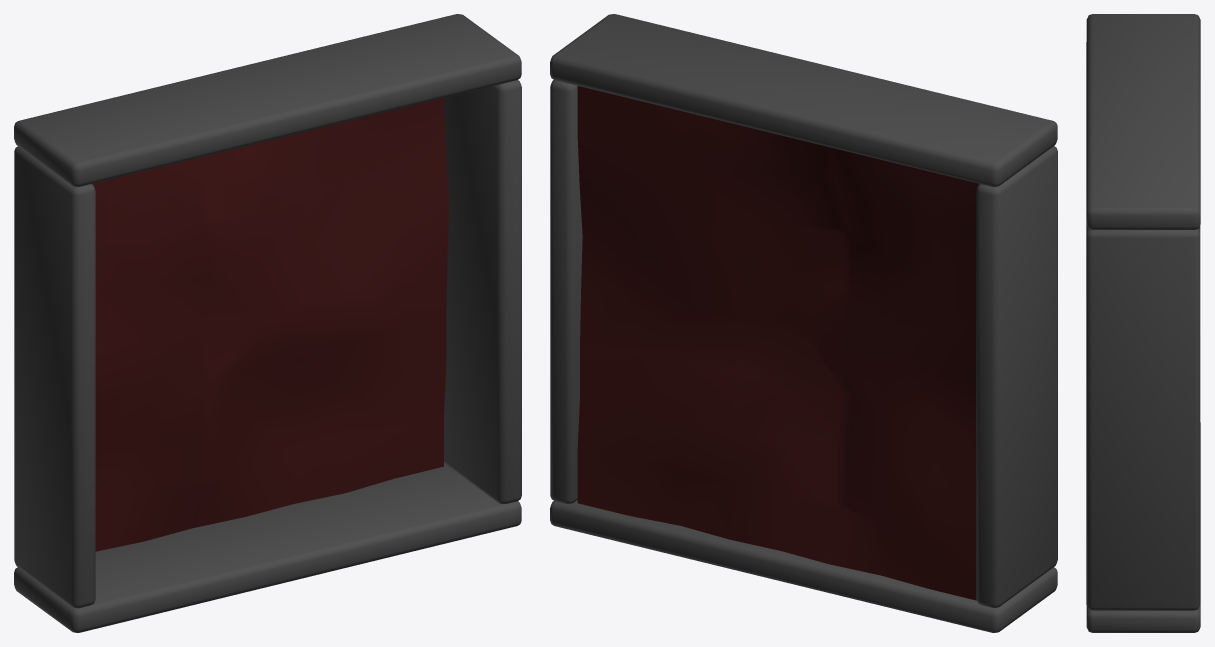
The model's file is Planter_Box.fbx.
The picture shows the model from 3 angles, left to right: view 1: azimuth 30°, elevation 25°; view 2: azimuth 150°, elevation 25°; view 3: azimuth 270°, elevation 25°; orthographic projection. The views are drawn at different scales.
Visible parts, largest first — view 1: Planter_Box; view 2: Planter_Box; view 3: Planter_Box.
Part boxes in pixels (<box>): Planter_Box: <box>14,14,521,632</box>; Planter_Box: <box>550,14,1057,632</box>; Planter_Box: <box>1086,14,1200,632</box>.
Bounding box in the file's own units: 77.18 × 77.18 × 18.76.
